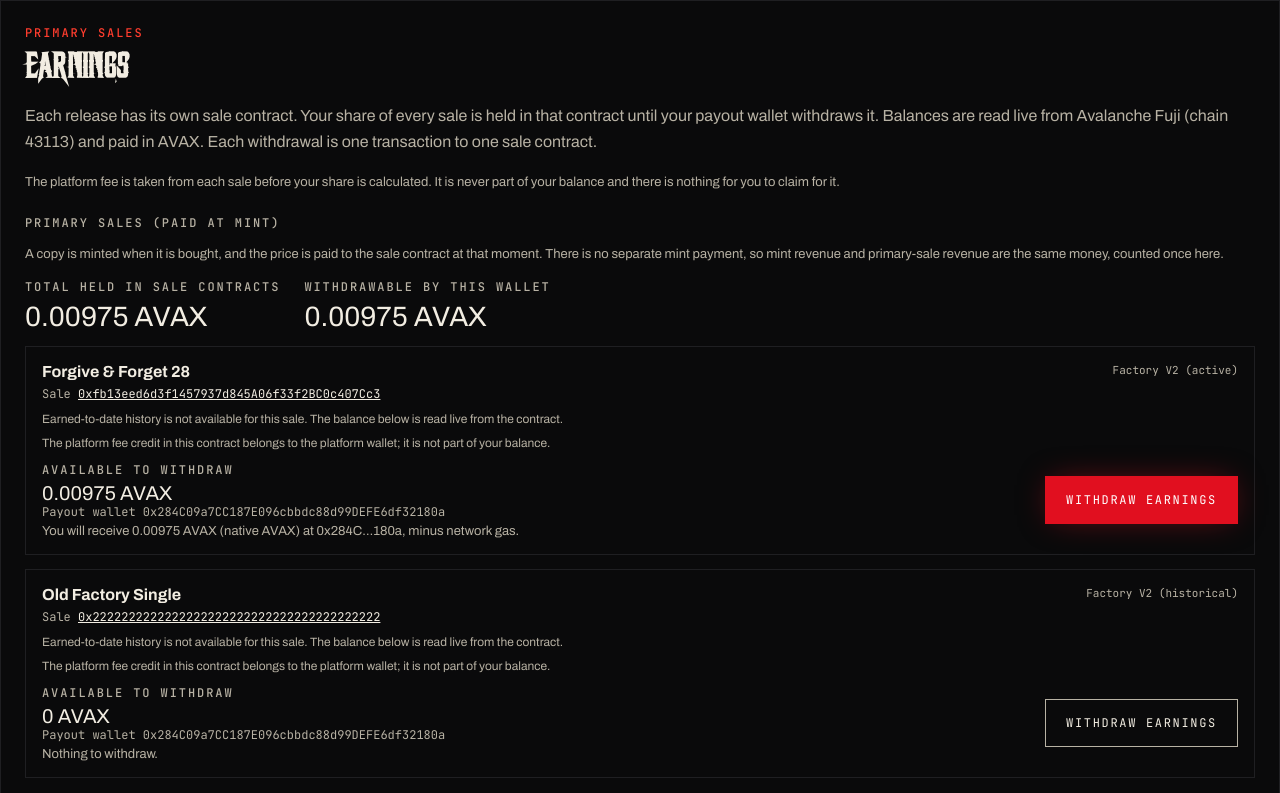
Test case: Studio earnings › reports a wallet rejection and sends nothing
The image size is (1280, 793).
Step 1. Click the button with aria-label "Withdraw from Forgive & Forget 28" → click(1142, 500), box left=1045, top=476, right=1238, bottom=524
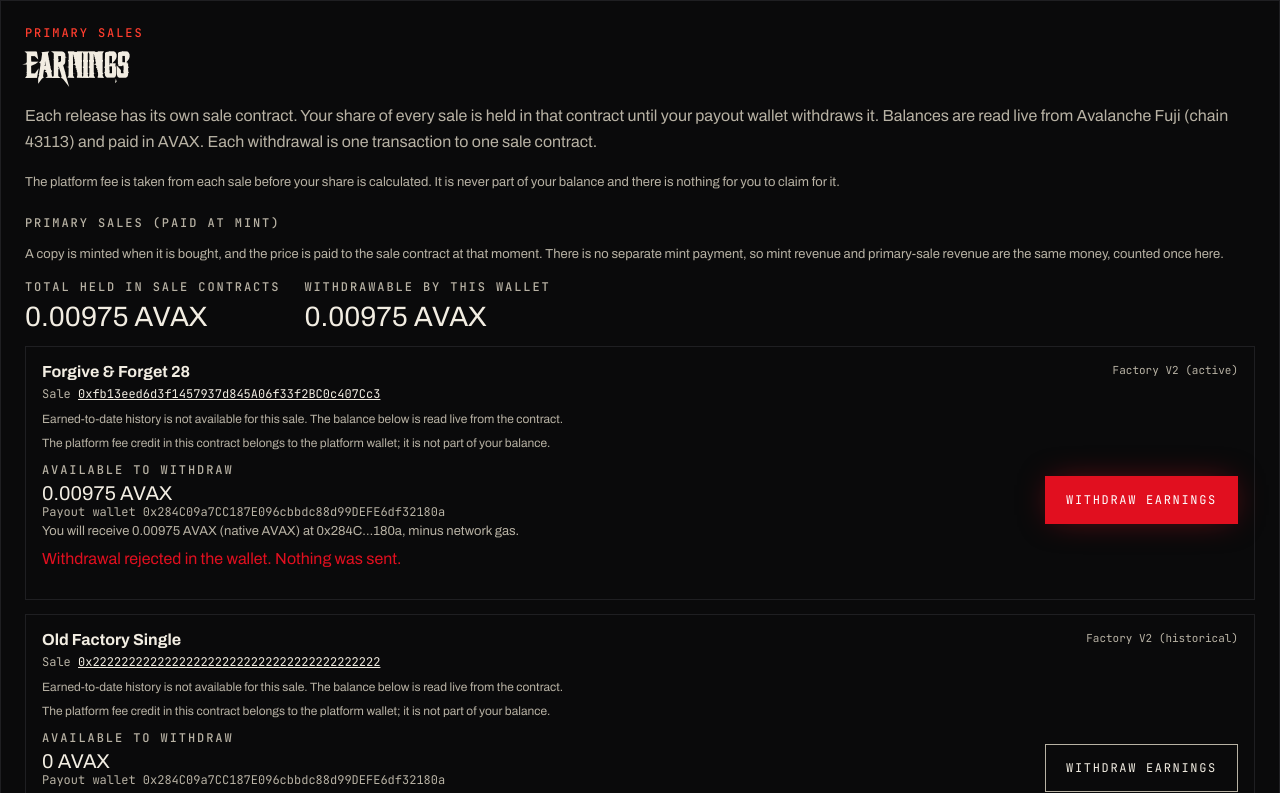
expect the text "Withdrawal rejected in the wallet. Nothing was sent." is shown: met, box left=42, top=550, right=401, bottom=567
